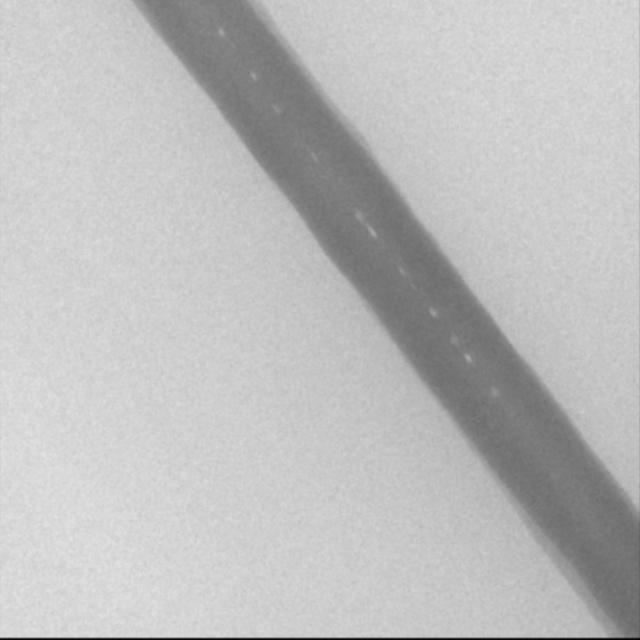air hole: (367, 223, 379, 241), (248, 68, 259, 83), (427, 306, 438, 319), (462, 352, 472, 365), (216, 25, 225, 38), (354, 210, 363, 222)
